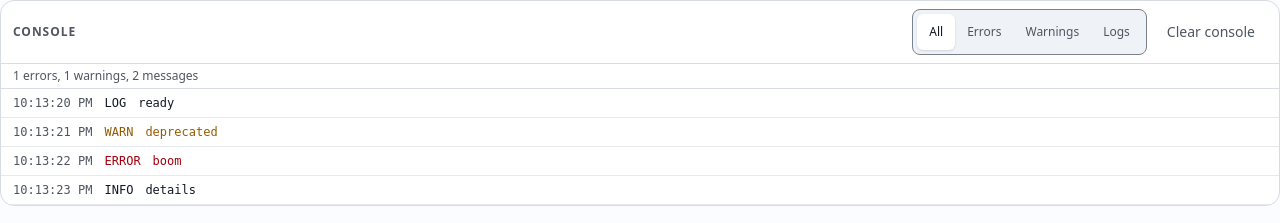
Scenario: ConsolePanel › filters by level
What coordinates should you click on to do the following:
click the tab "Errors"
I would click on:
 (984, 32)
Its box is [955,14,1014,50].
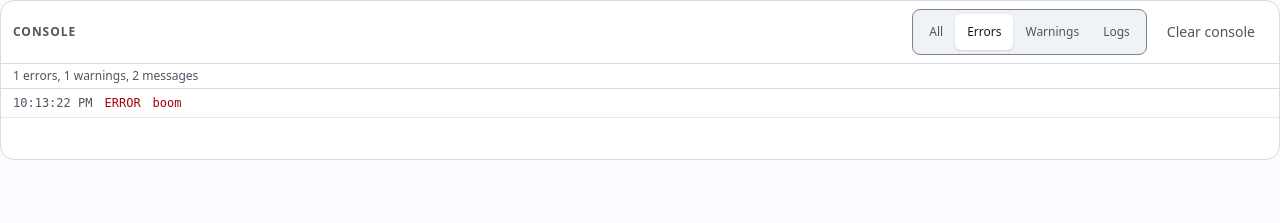
Expected: the number of list items is 1, [1,89,1279,118]
What coordinates should you click on to do the following:
click the tab "Logs"
I would click on:
 (1116, 32)
Its box is [1091,14,1142,50].
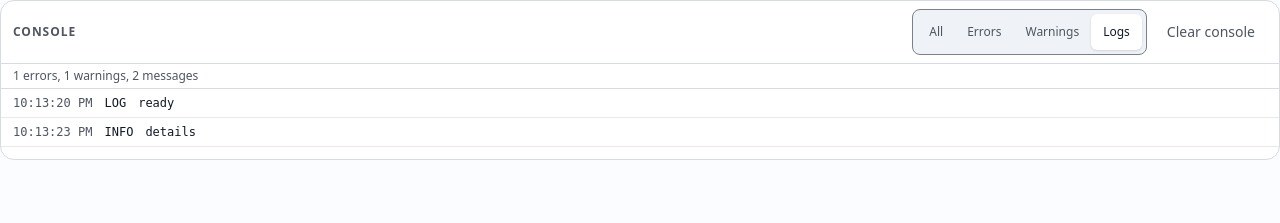
Expected: the number of list items is 2, [1,89,1279,118]; [1,118,1279,147]
